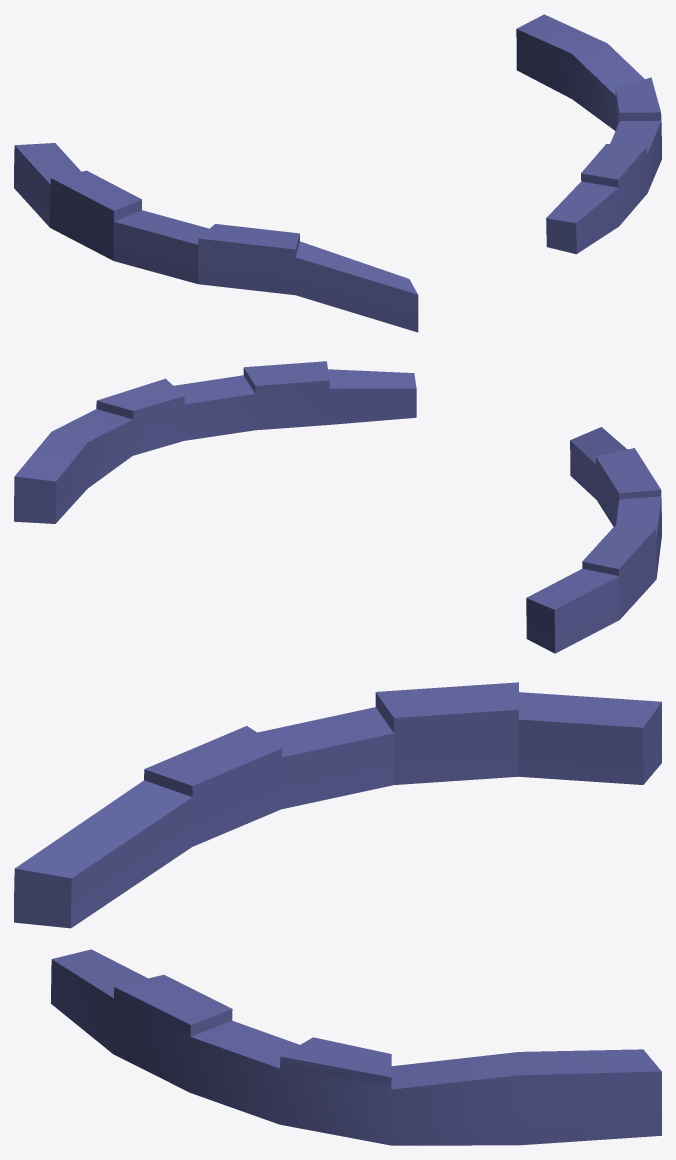
File: SM_halfTopArch.fbx
The picture shows the model from 3 angles, top to bottom: view 1: azimuth 30°, elevation 25°; view 2: azimuth 150°, elevation 25°; view 3: azimuth 270°, elevation 25°; orthographic projection. The views are drawn at different scales.
Parts seen in each view (by area): view 1: ArenaRingTop1; view 2: ArenaRingTop1; view 3: ArenaRingTop1.
Part boxes in pixels (x1=…): ArenaRingTop1: x1=14, y1=14, x2=661, y2=332; ArenaRingTop1: x1=14, y1=361, x2=661, y2=653; ArenaRingTop1: x1=14, y1=682, x2=661, y2=1145.
Size of the model in its own units: 1430 by 179 by 999.
